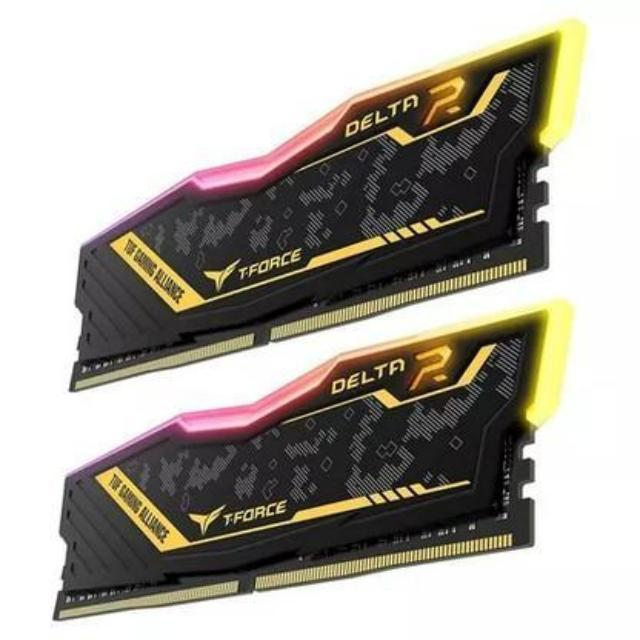RAM: (42, 17, 606, 412), (43, 302, 586, 627)
